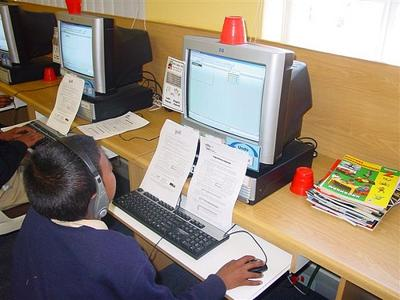person: (5, 134, 268, 300)
